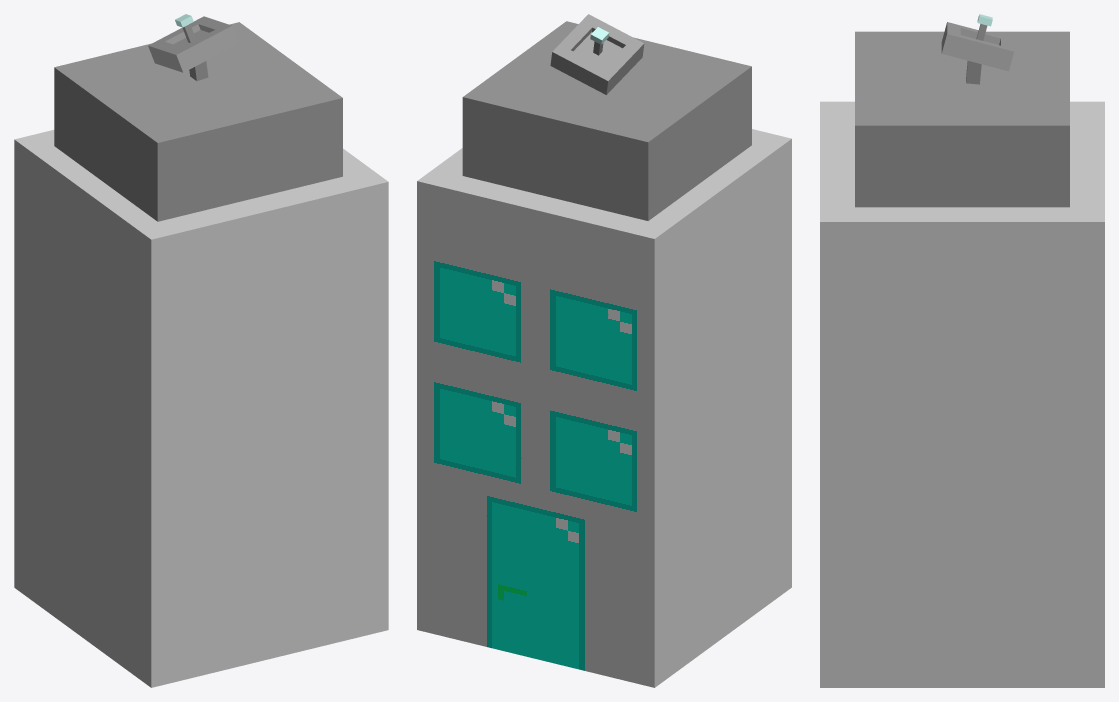
File: Edificio generico basso.gltf
The picture shows the model from 3 angles, left to right: view 1: azimuth 30°, elevation 25°; view 2: azimuth 150°, elevation 25°; view 3: azimuth 270°, elevation 25°; orthographic projection. The views are drawn at different scales.
Parts seen in each view (by area): view 1: cube (×4); view 2: cube (×5); view 3: cube (×3).
Boxes of the visible parts, box(x1,y1,x2,y2) form: cube (×4): box(14, 22, 388, 687); cube (×5): box(417, 14, 791, 687); cube (×3): box(820, 29, 1104, 687).
Size of the model in its own units: 2.56 by 6.06 by 2.56.
Materials: 1 (1 with a texture image).
